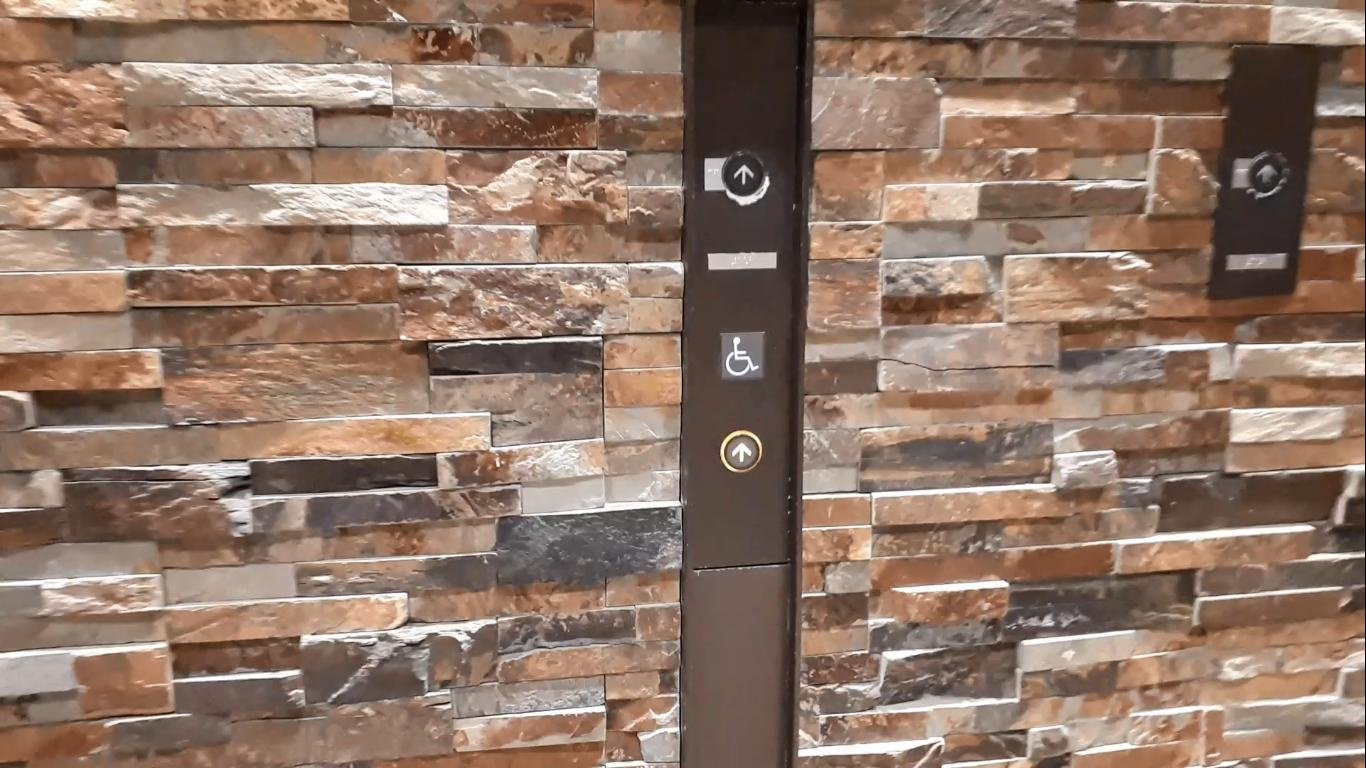CH: (714, 327, 770, 386)
up: (717, 147, 773, 206), (1239, 144, 1295, 203), (715, 425, 767, 477)
